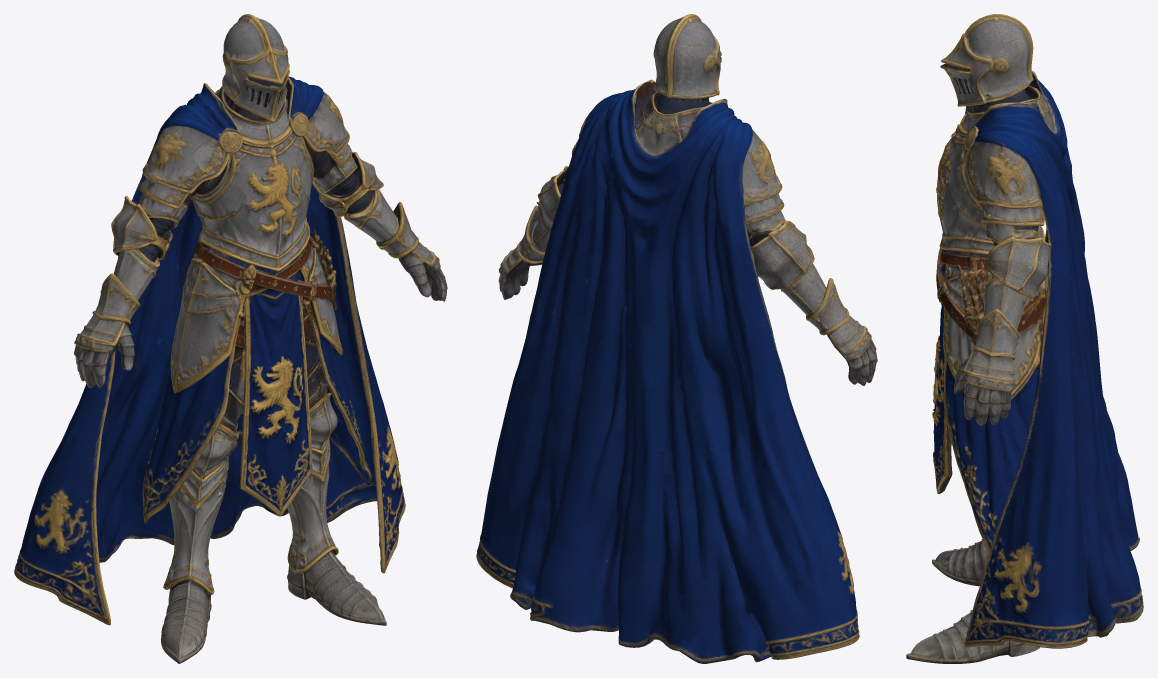
The model's file is SirAldric_SEP_body_nosword_PAINTED_mid200k.fbx.
3 renders of one model, left to right at view 1: azimuth 30°, elevation 25°; view 2: azimuth 150°, elevation 25°; view 3: azimuth 270°, elevation 25°, orthographic. The views are drawn at different scales.
Parts seen in each view (by area): view 1: SirAldric_SEP_body_nosword_PAINTED_MIDPOLY; view 2: SirAldric_SEP_body_nosword_PAINTED_MIDPOLY; view 3: SirAldric_SEP_body_nosword_PAINTED_MIDPOLY.
Boxes of the visible parts, bbox=[...] form: SirAldric_SEP_body_nosword_PAINTED_MIDPOLY: bbox=[14, 14, 447, 663]; SirAldric_SEP_body_nosword_PAINTED_MIDPOLY: bbox=[476, 14, 877, 663]; SirAldric_SEP_body_nosword_PAINTED_MIDPOLY: bbox=[906, 14, 1143, 663].
Size of the model in its own units: 1.27 by 1.9 by 0.6789.
1 material, 1 textured.
